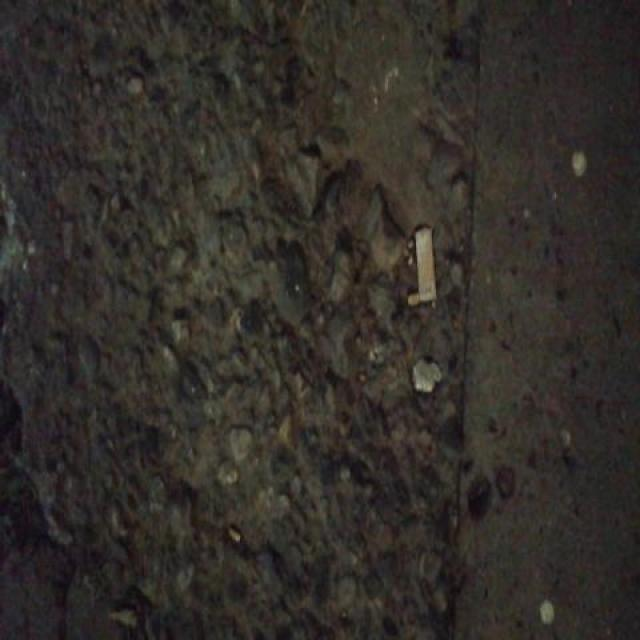non-organic waste: (412, 220, 440, 308)
